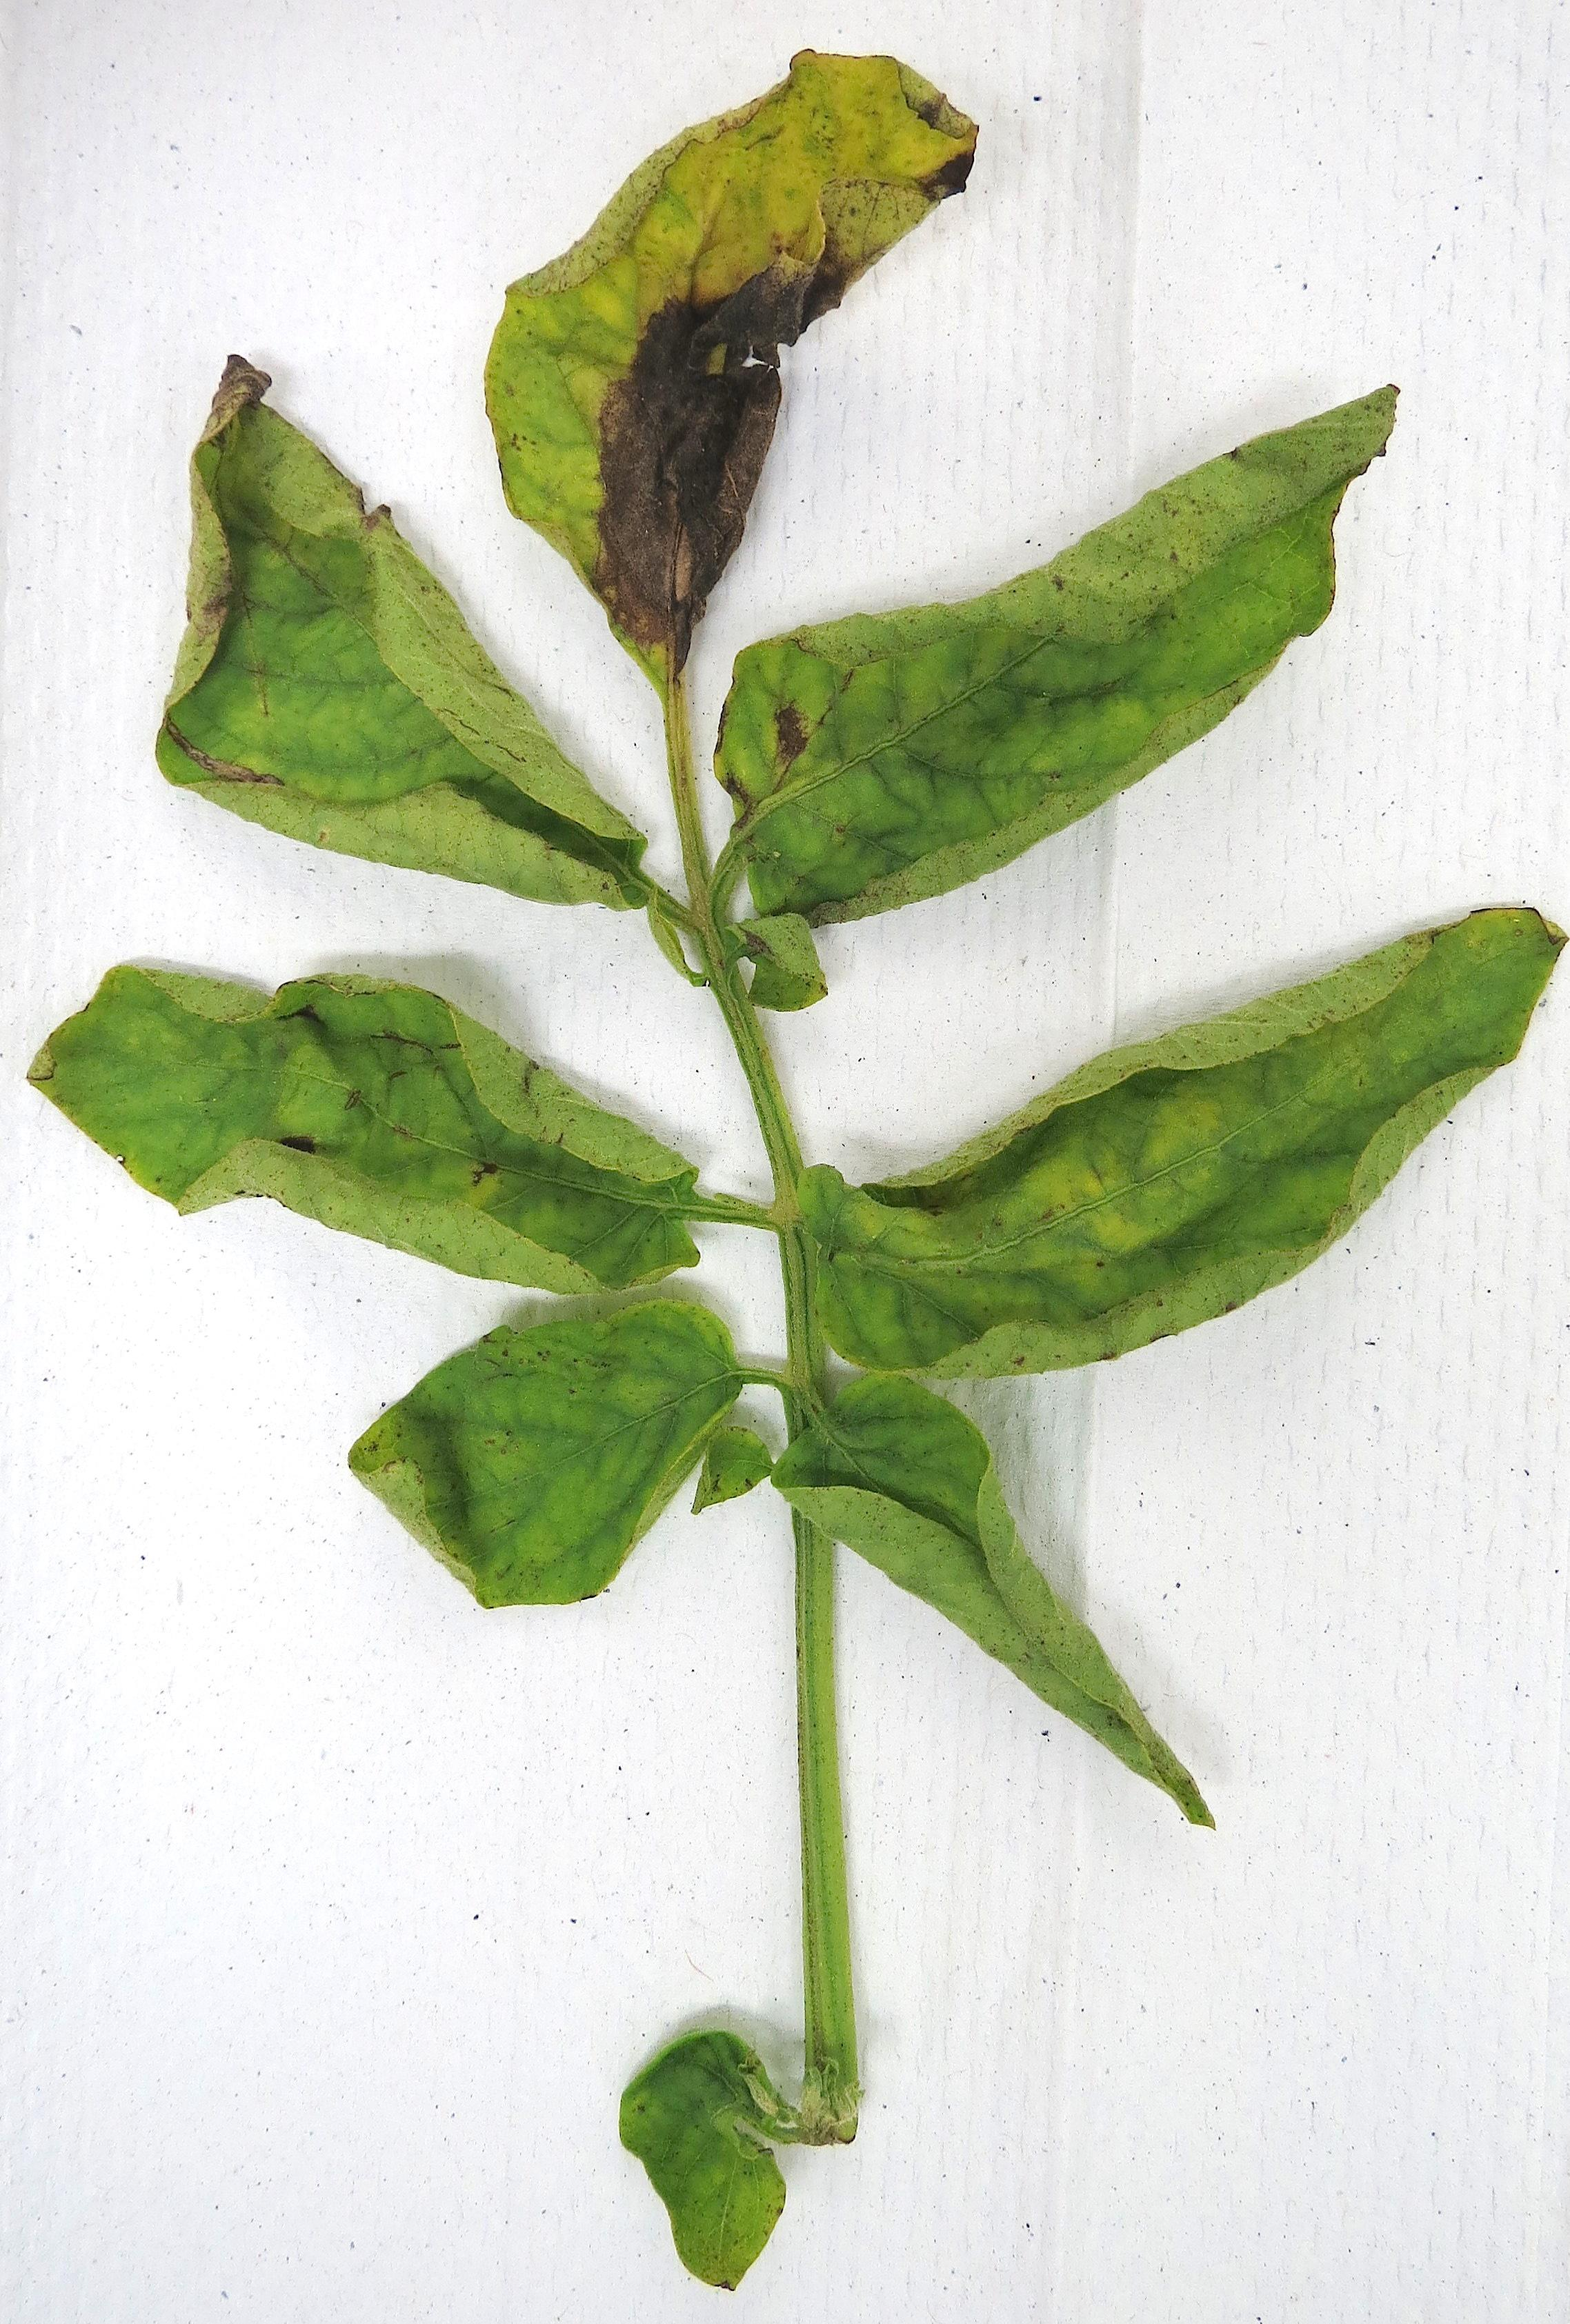Potato leaf: (724, 373, 1419, 951), (478, 23, 995, 716), (161, 345, 669, 921)
